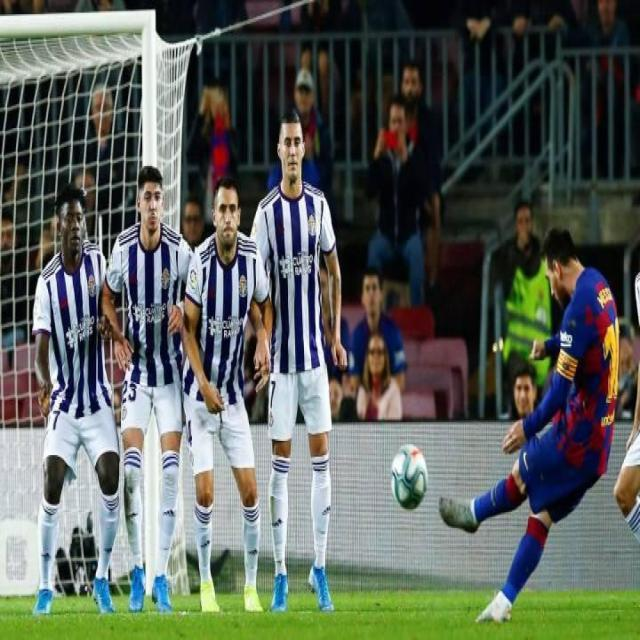ball: (386, 438, 432, 513)
player: (436, 221, 632, 628), (247, 112, 341, 618), (32, 188, 121, 617), (105, 164, 187, 615), (182, 183, 265, 618)
